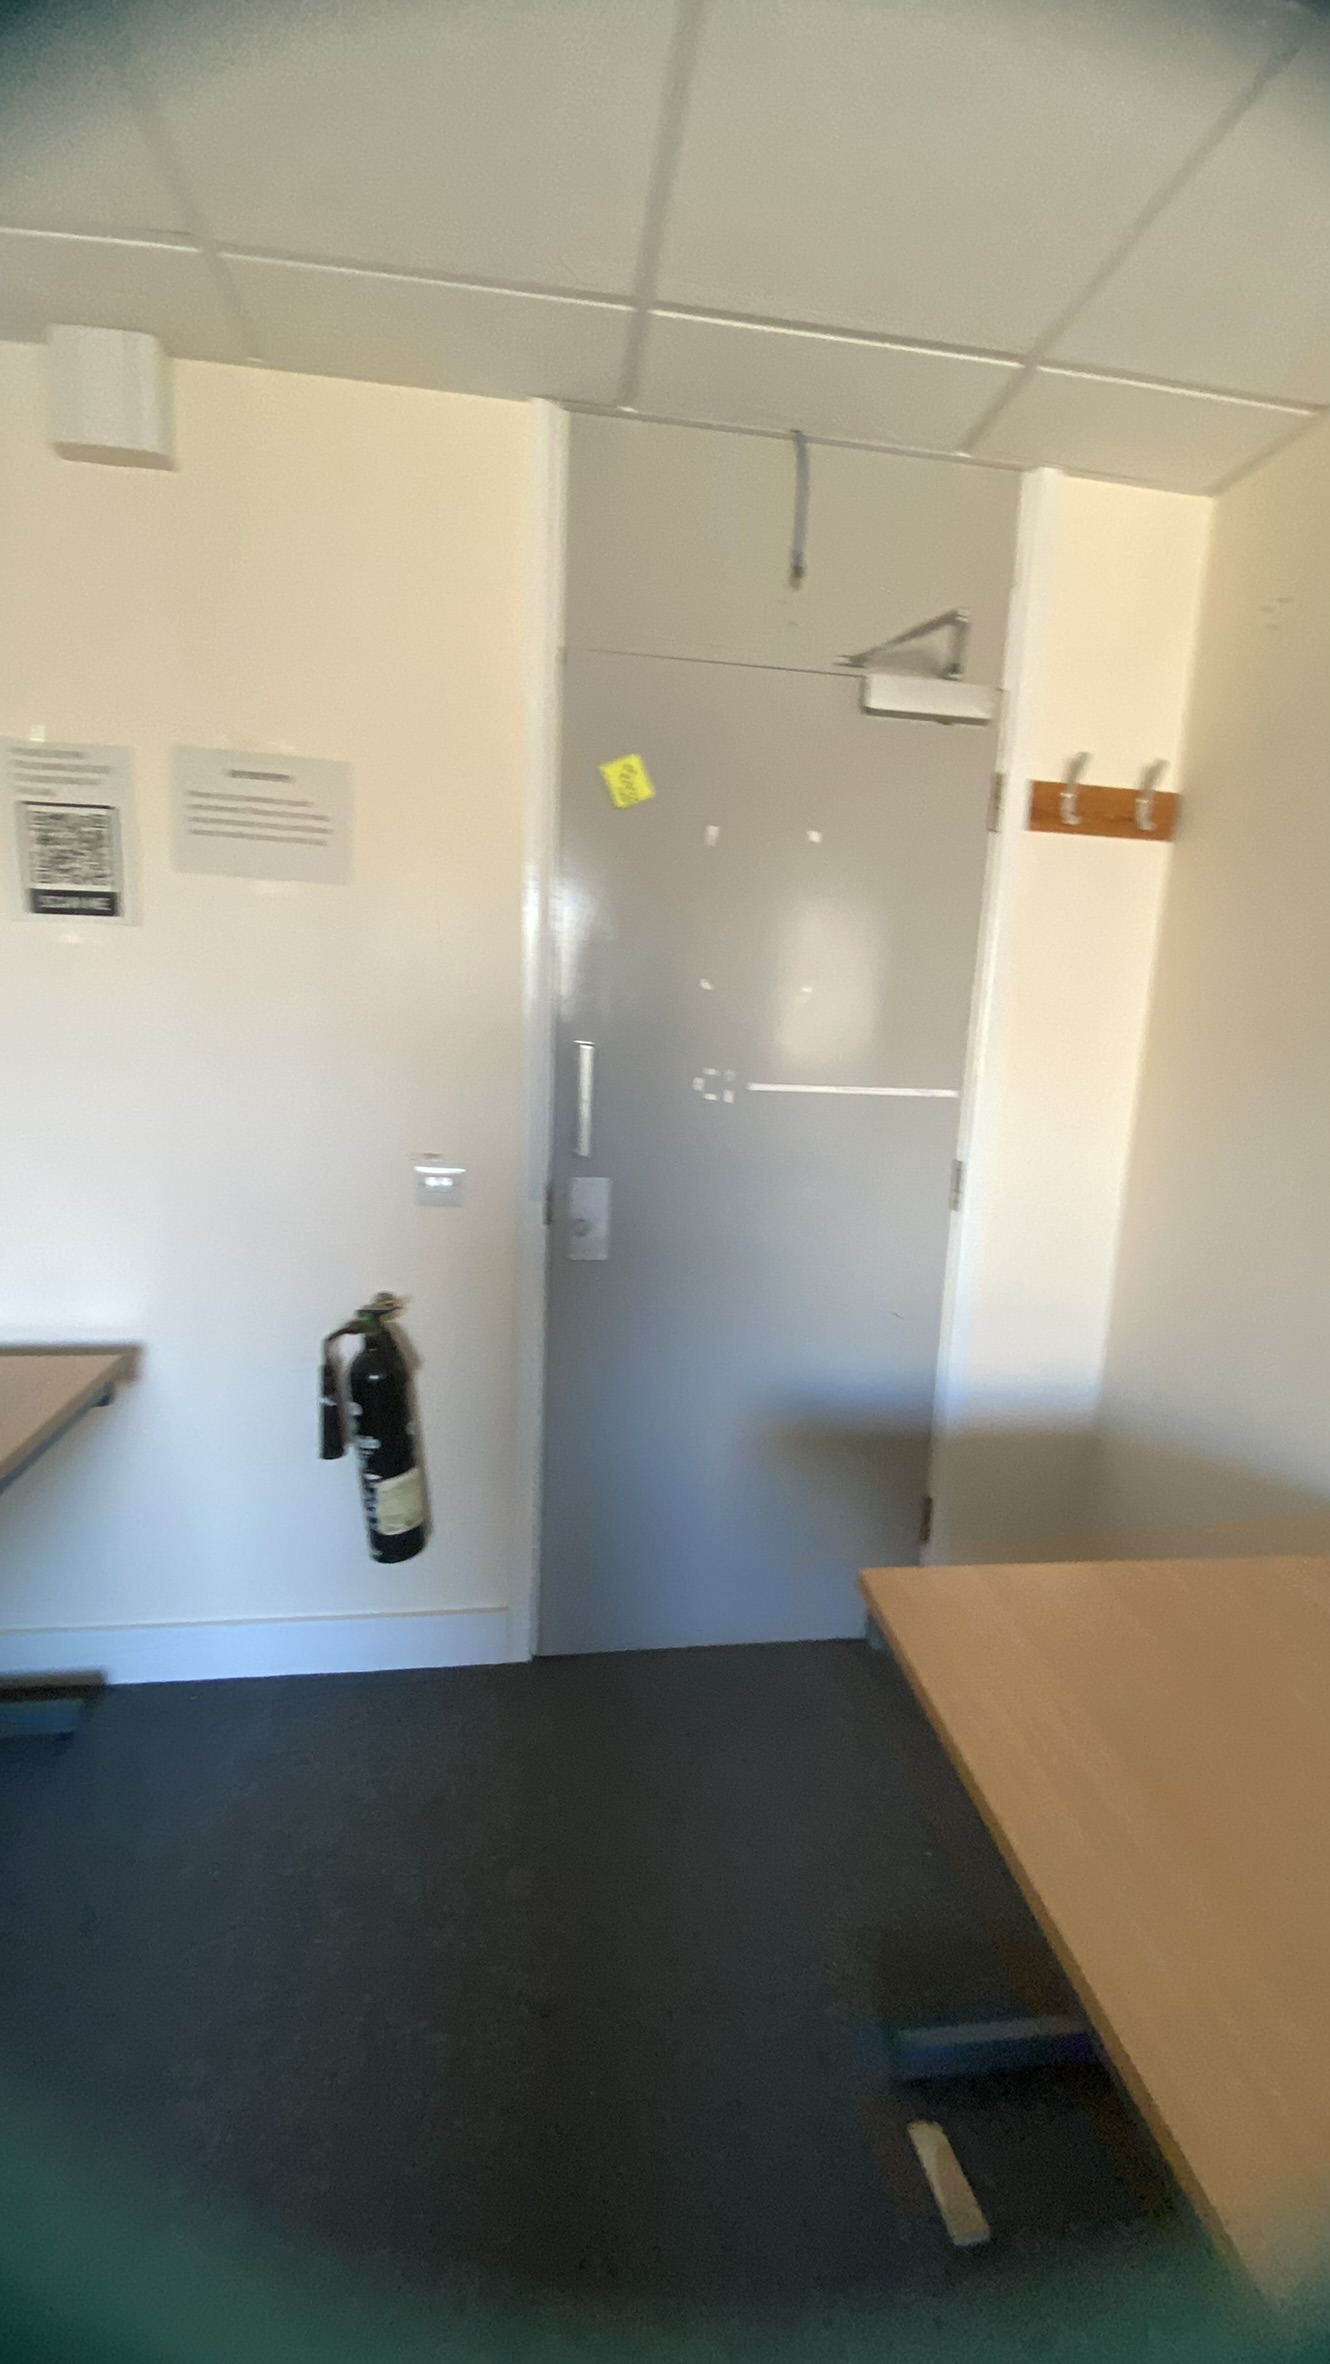door: (529, 388, 982, 1715)
